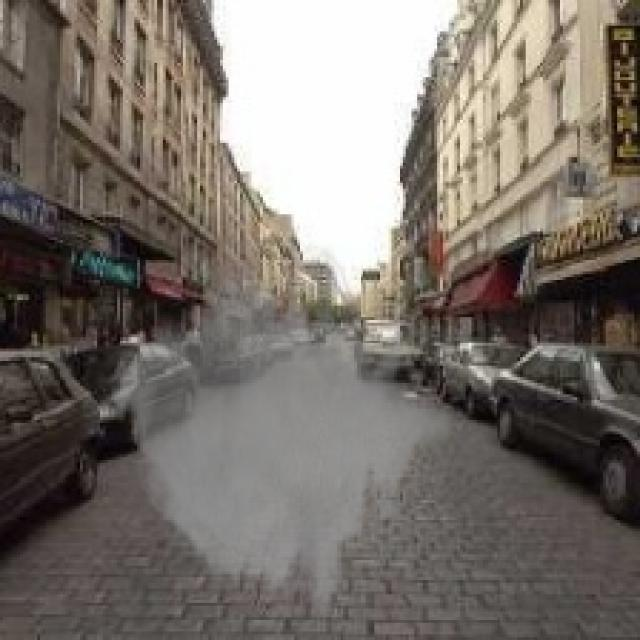smoke: (109, 240, 454, 631)
